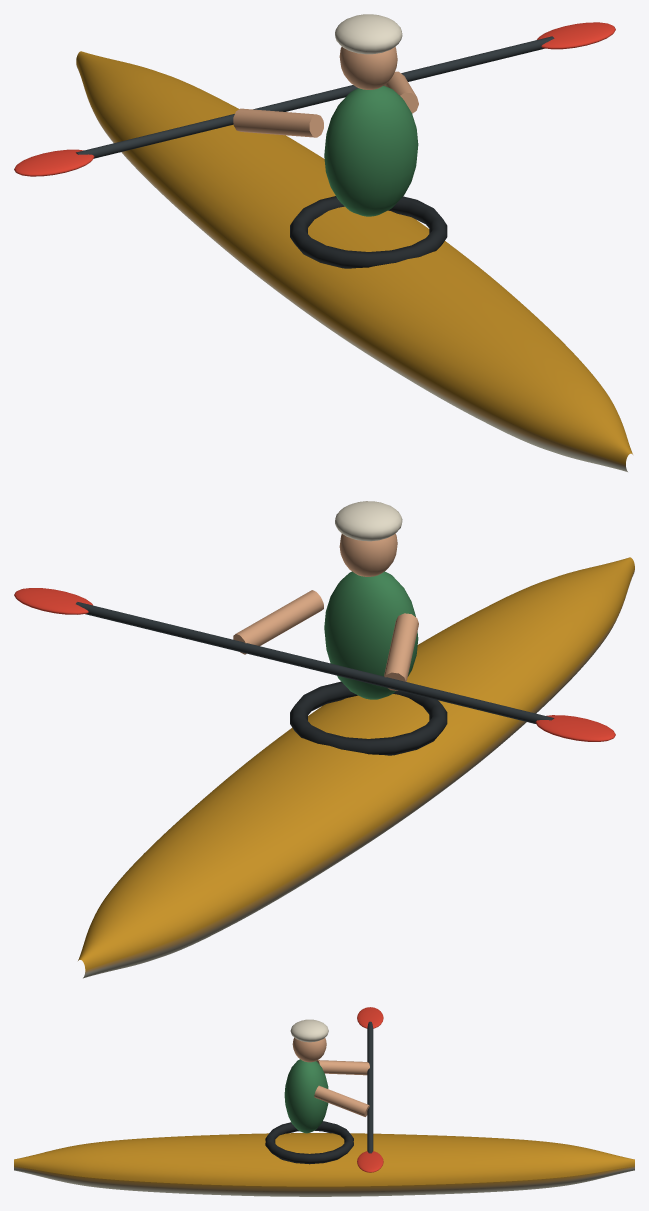
Rendered from kayak.glb.
3 views of the same model, one above another, from view 1: azimuth 30°, elevation 25°; view 2: azimuth 150°, elevation 25°; view 3: azimuth 270°, elevation 25° (orthographic). The views are drawn at different scales.
Parts seen in each view (by area): view 1: KayakHull, PaddlerVest, Cockpit, PaddleShaft, PaddleBladeAssembly, PaddlerArmAssembly, PaddlerHat, PaddlerHead; view 2: KayakHull, PaddlerVest, PaddleShaft, Cockpit, PaddlerArmAssembly, PaddleBladeAssembly, PaddlerHat, PaddlerHead; view 3: KayakHull, PaddlerVest, Cockpit, PaddlerArmAssembly, PaddleBladeAssembly, PaddleShaft, PaddlerHat, PaddlerHead.
Part boxes in pixels (x1,y1,x2,y2): KayakHull: (76,51,632,471); PaddlerVest: (324,85,418,216); Cockpit: (290,196,447,268); PaddleShaft: (76,36,554,158); PaddleBladeAssembly: (14,22,615,176); PaddlerArmAssembly: (233,71,418,137); PaddlerHat: (335,14,402,54); PaddlerHead: (339,47,397,89); KayakHull: (78,557,634,978); PaddlerVest: (324,571,418,699); PaddleShaft: (76,602,554,724); Cockpit: (290,681,447,755); PaddlerArmAssembly: (233,590,418,690); PaddleBladeAssembly: (14,588,615,741); PaddlerHat: (335,501,402,541); PaddlerHead: (339,533,397,576); KayakHull: (14,1133,634,1196); PaddlerVest: (284,1059,328,1133); Cockpit: (265,1121,353,1164); PaddlerArmAssembly: (314,1060,369,1116); PaddleBladeAssembly: (357,1007,383,1172); PaddleShaft: (367,1021,373,1153); PaddlerHat: (290,1019,328,1042); PaddlerHead: (292,1037,326,1062).
Bounding box in the file's own units: 2.64 × 1.24 × 4.2.
